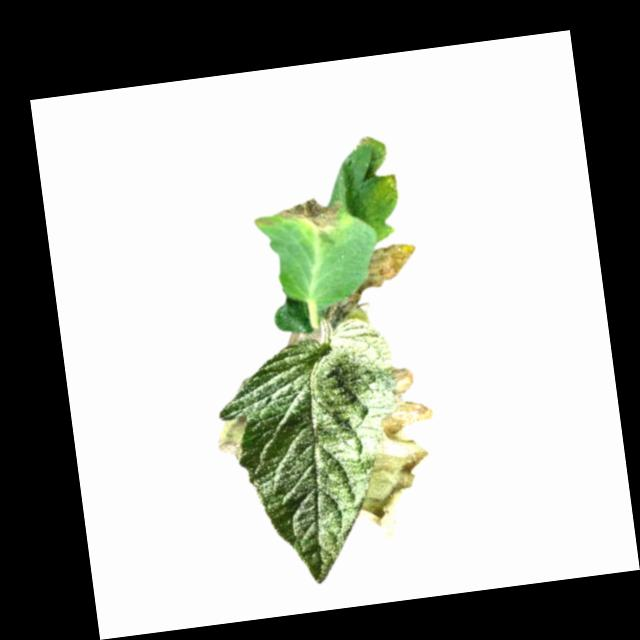Late_blight: (340, 363, 443, 547), (321, 241, 423, 321), (275, 192, 347, 234), (212, 413, 248, 461), (284, 323, 323, 345), (356, 131, 376, 145)
healthy: (209, 313, 418, 593)
